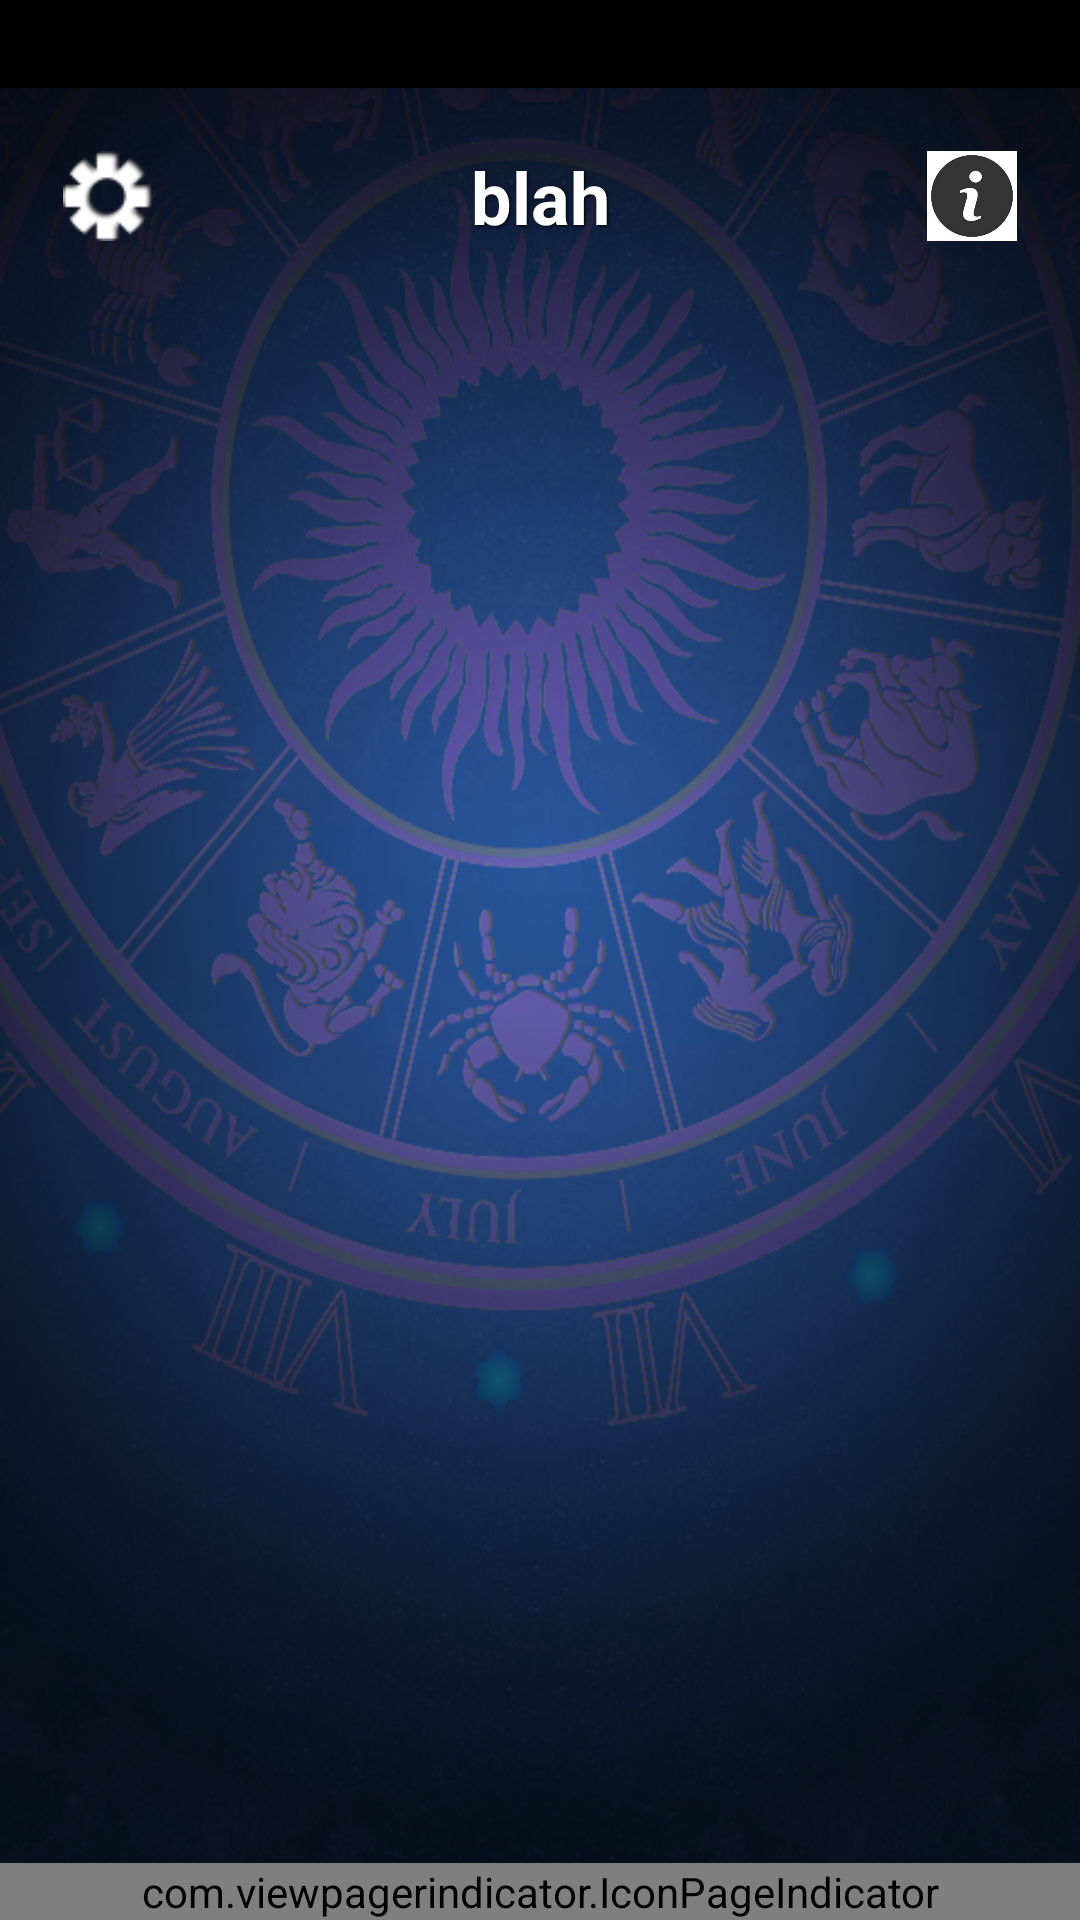

Icon bounding boxes for this 1080 × 1920 phone screenshot, format BBox(x1, y1, x2, y2):
info: BBox(927, 151, 1017, 241)
settingsnew: BBox(63, 151, 152, 241)
